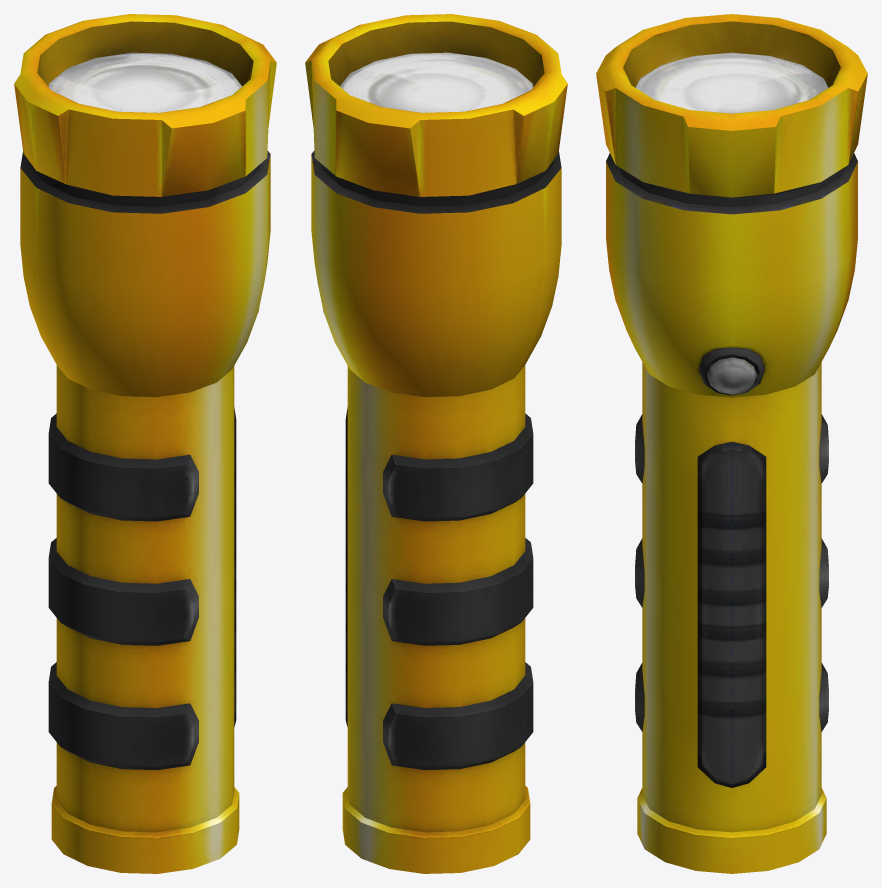
The model's file is roblox_flashlight.glb.
3 renders of one model, left to right at view 1: azimuth 30°, elevation 25°; view 2: azimuth 150°, elevation 25°; view 3: azimuth 270°, elevation 25°, orthographic.
Visible parts, largest first — view 1: RobloxFlashlight_0; view 2: RobloxFlashlight_0; view 3: RobloxFlashlight_0.
Boxes of the visible parts, left/top/right/bottom form: RobloxFlashlight_0: left=14, top=14, right=276, bottom=873; RobloxFlashlight_0: left=305, top=14, right=567, bottom=873; RobloxFlashlight_0: left=596, top=14, right=867, bottom=873.
Bounding box in the file's own units: 0.7894 × 2.5 × 0.7903.
1 material, 1 textured.
